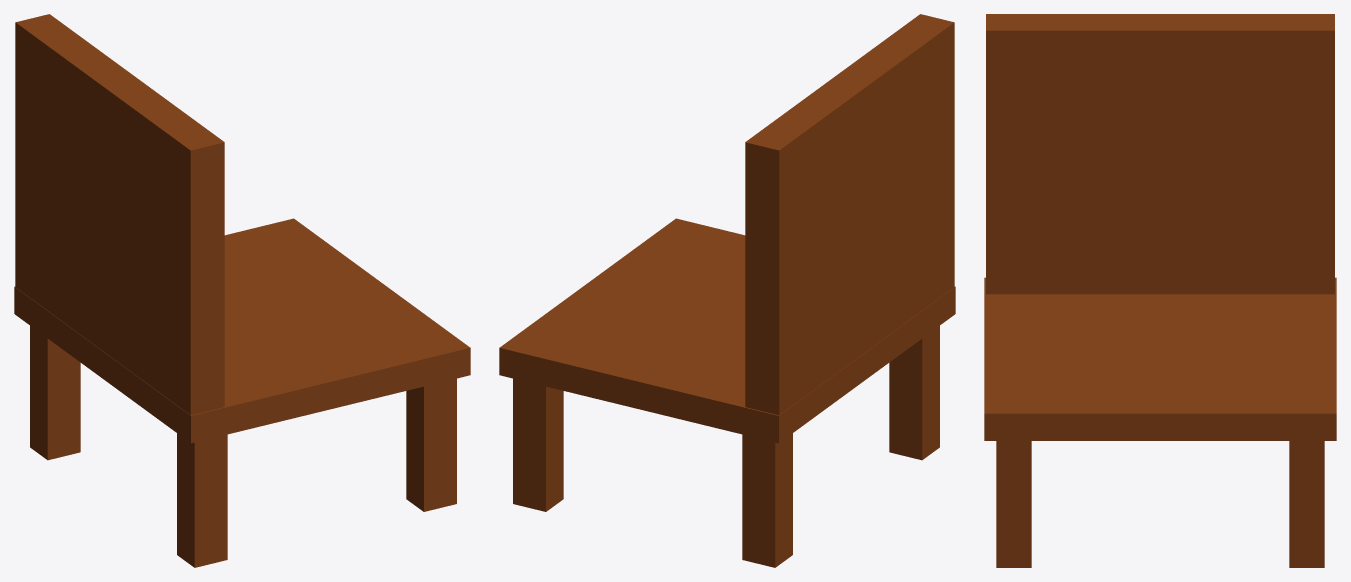
File: chair.fbx
3 renders of one model, left to right at view 1: azimuth 30°, elevation 25°; view 2: azimuth 150°, elevation 25°; view 3: azimuth 270°, elevation 25°, orthographic.
Visible parts, largest first — view 1: chair; view 2: chair; view 3: chair.
Part boxes in pixels (x1,y1,x2,y2): chair: (14, 14, 470, 567); chair: (499, 14, 955, 567); chair: (984, 14, 1336, 567).
Size of the model in its own units: 49.4 by 71.53 by 54.08.
